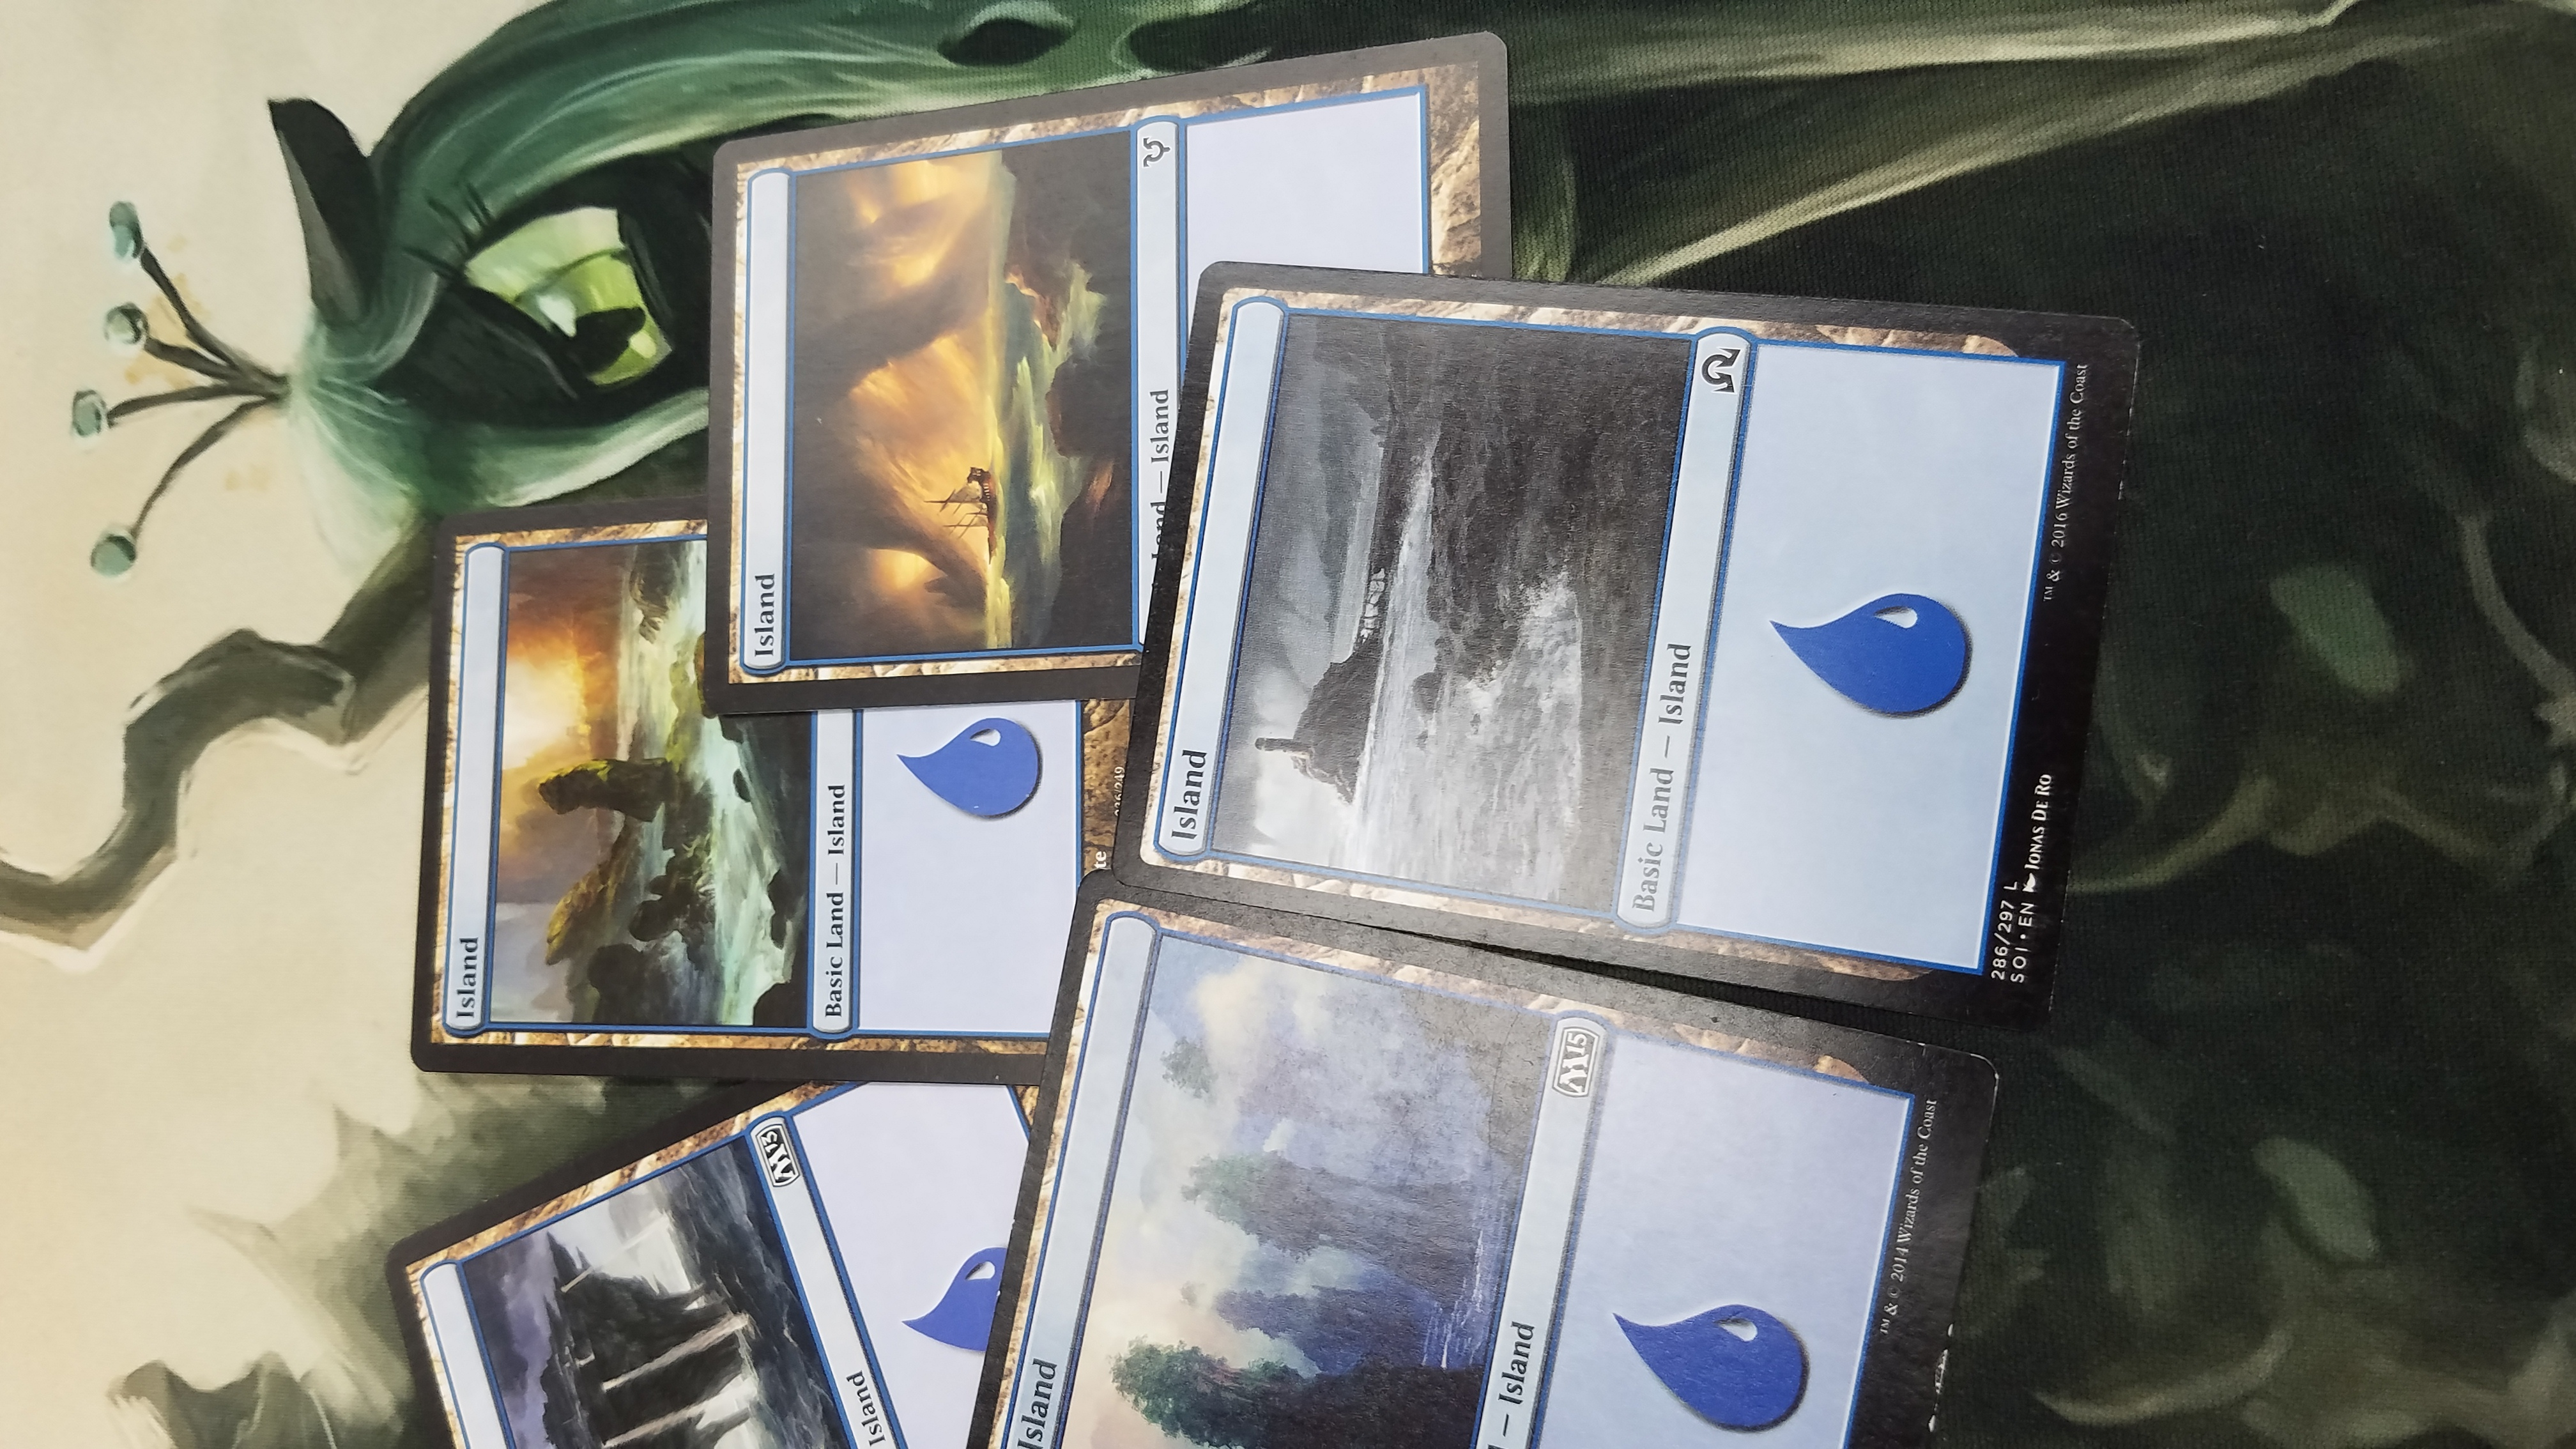Card: (1100, 249, 2158, 1021), (948, 874, 2006, 1449), (706, 32, 1520, 711), (407, 488, 1155, 1074)
